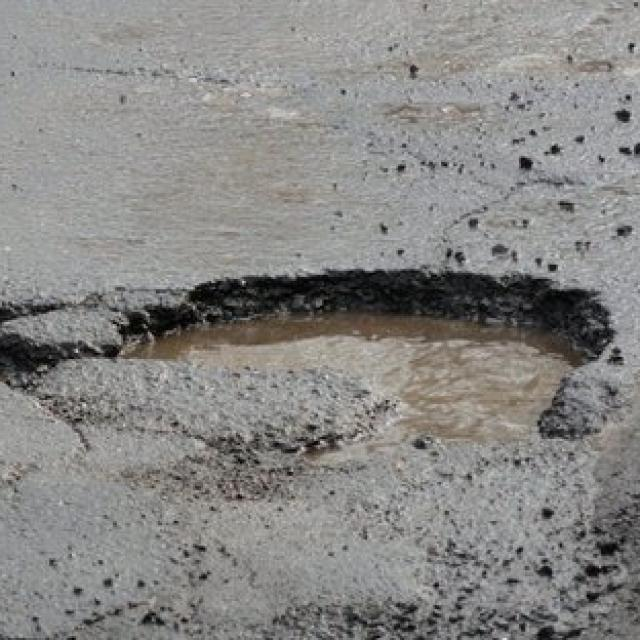pothole: (0, 258, 627, 495)
